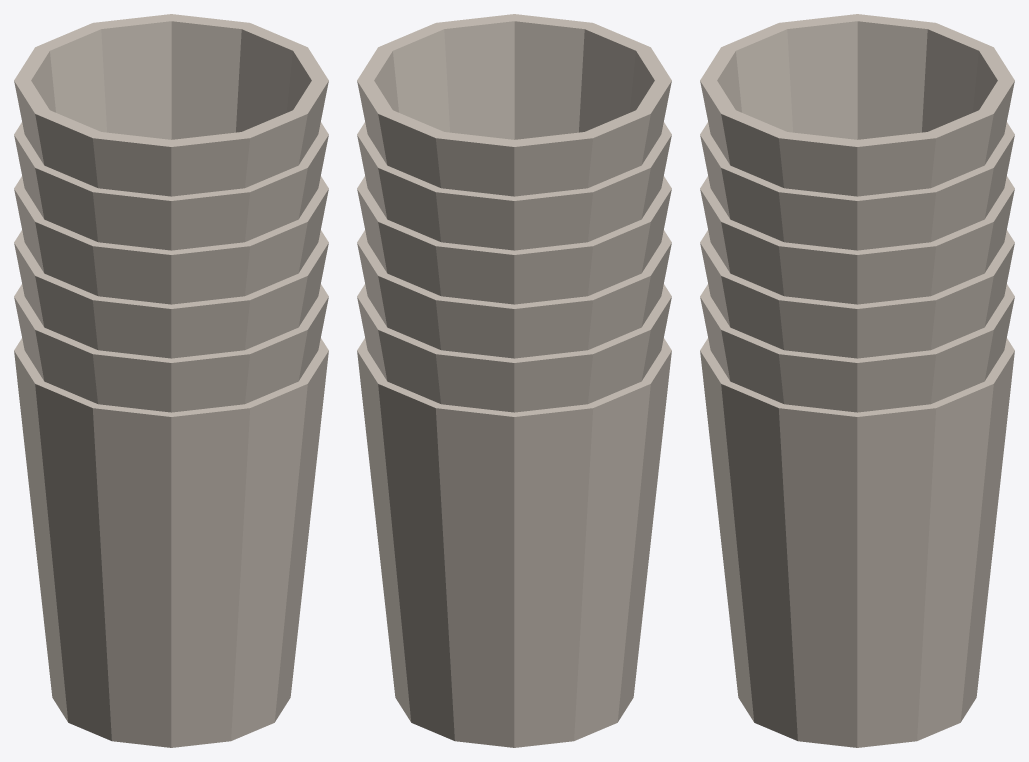
The model's file is SM_Cook_SorbetesCupStack_Short_01.fbx.
3 renders of one model, left to right at view 1: azimuth 30°, elevation 25°; view 2: azimuth 150°, elevation 25°; view 3: azimuth 270°, elevation 25°, orthographic.
Visible parts, largest first — view 1: SM_Cook_SorbetesCupStack_Short_01; view 2: SM_Cook_SorbetesCupStack_Short_01; view 3: SM_Cook_SorbetesCupStack_Short_01.
Boxes of the visible parts, bbox=[...] form: SM_Cook_SorbetesCupStack_Short_01: bbox=[14, 14, 328, 747]; SM_Cook_SorbetesCupStack_Short_01: bbox=[357, 14, 671, 747]; SM_Cook_SorbetesCupStack_Short_01: bbox=[700, 14, 1014, 747].
Size of the model in its own units: 0.074 by 0.16 by 0.074.
1 material, 1 textured.
